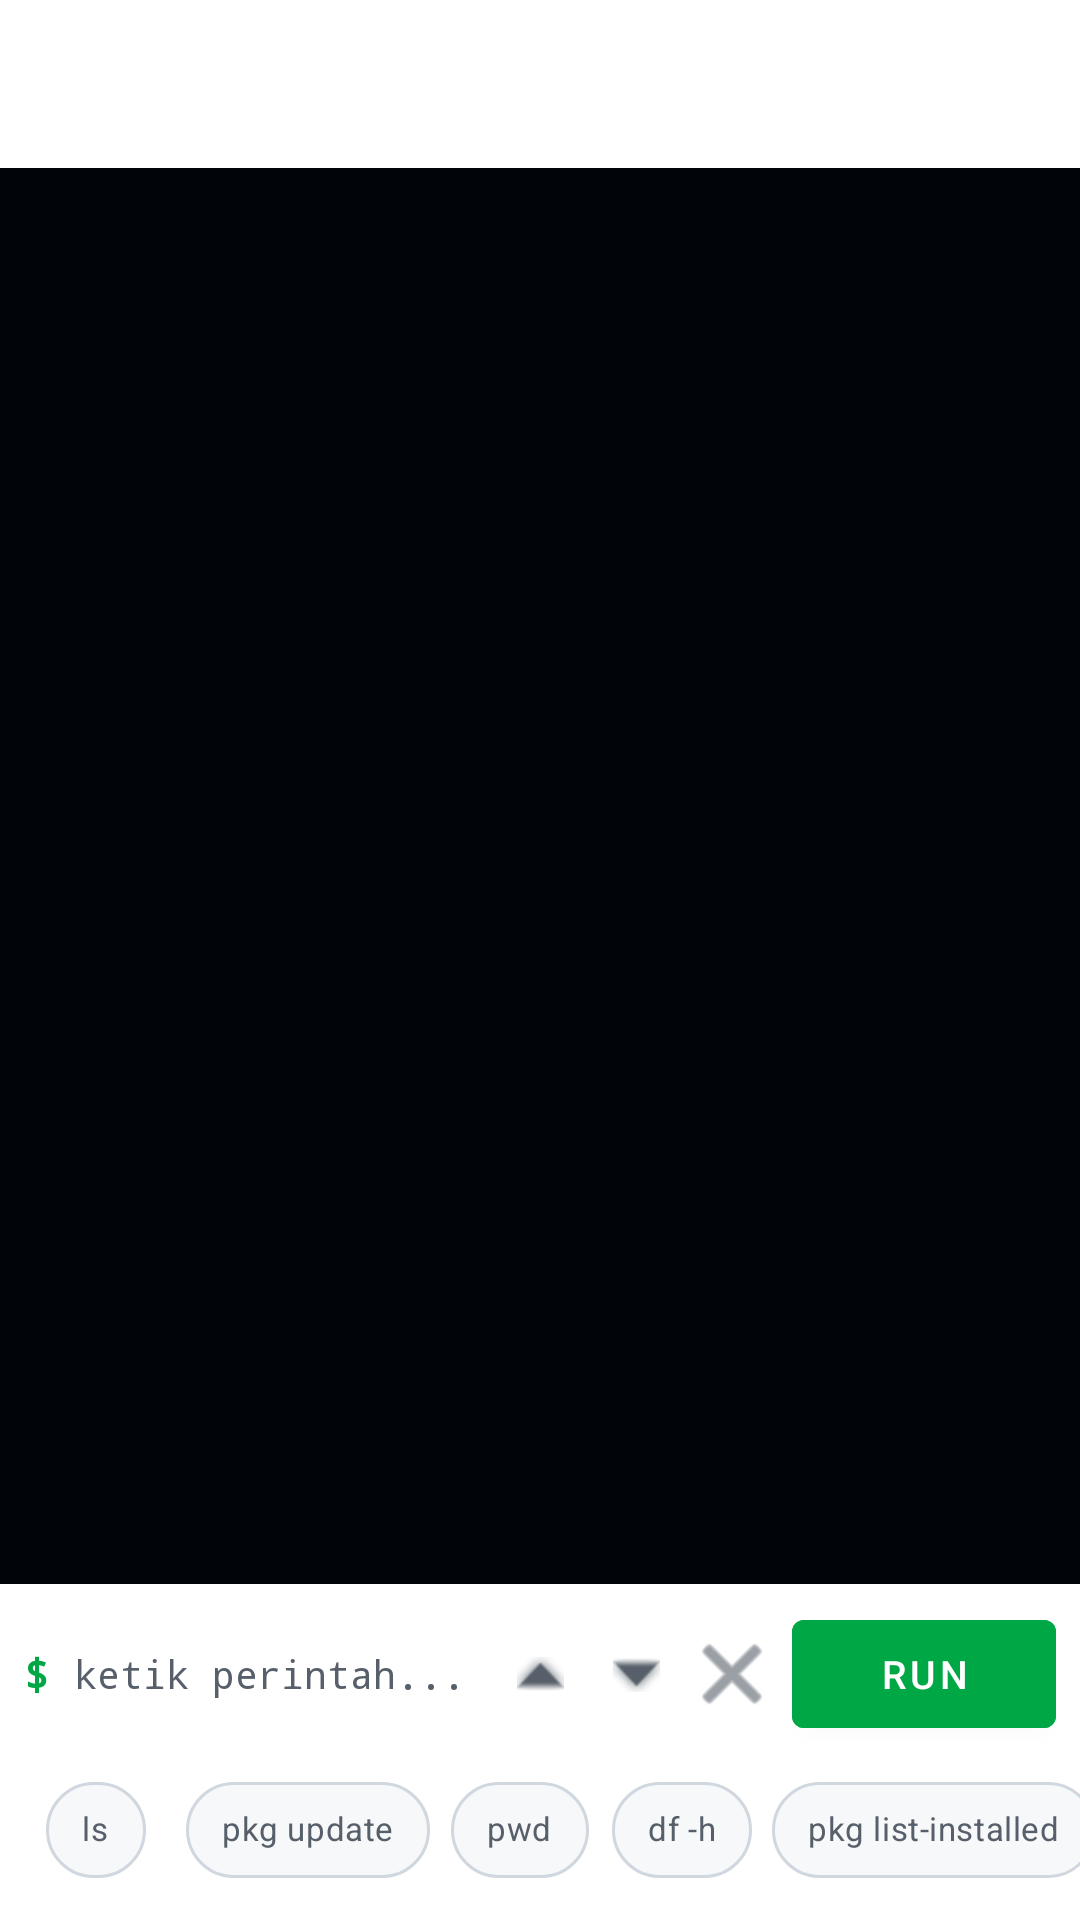

Named icons in this screenshot (1080×1920) and their centers, point (x, y):
Clear: point (732, 1674)
History Down: point (636, 1674)
History Up: point (540, 1675)
